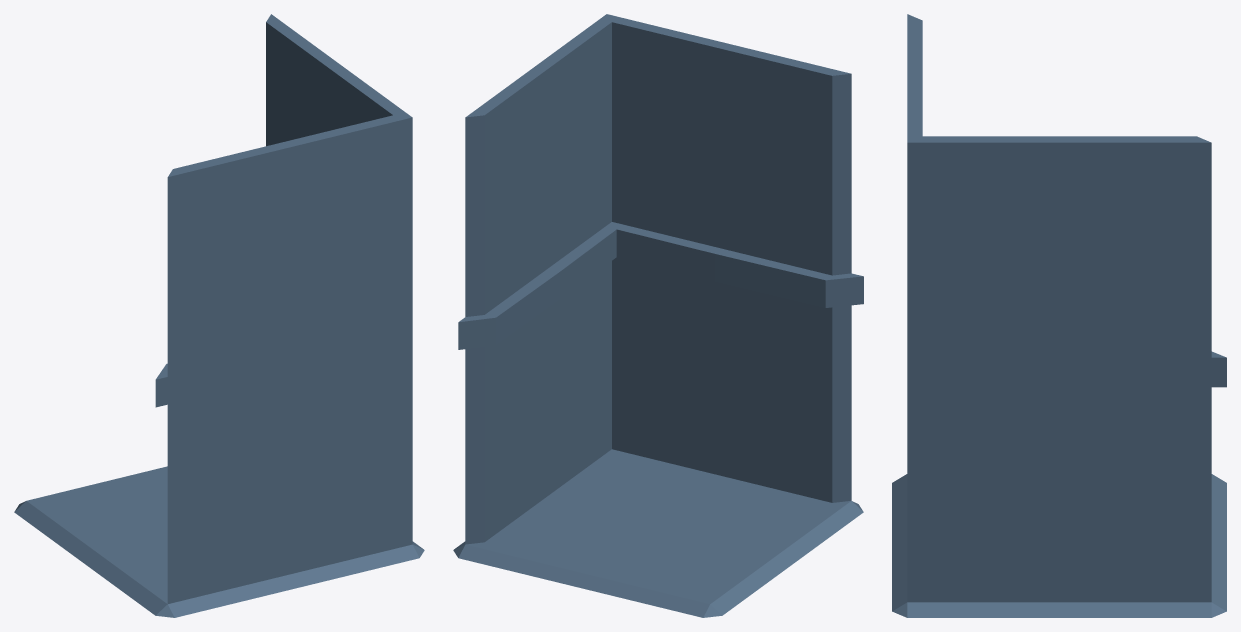
Rendered from Wall2.FBX.
The picture shows the model from 3 angles, left to right: view 1: azimuth 30°, elevation 25°; view 2: azimuth 150°, elevation 25°; view 3: azimuth 270°, elevation 25°; orthographic projection. The views are drawn at different scales.
Visible parts, largest first — view 1: Wall2; view 2: Wall2, Object007; view 3: Wall2, Object007.
Boxes of the visible parts, <box> form: Wall2: <box>14,14,424,617</box>; Wall2: <box>453,14,863,617</box>; Object007: <box>458,222,863,349</box>; Wall2: <box>892,14,1226,617</box>; Object007: <box>1211,351,1226,387</box>.
Size of the model in its own units: 130 by 201 by 130.
